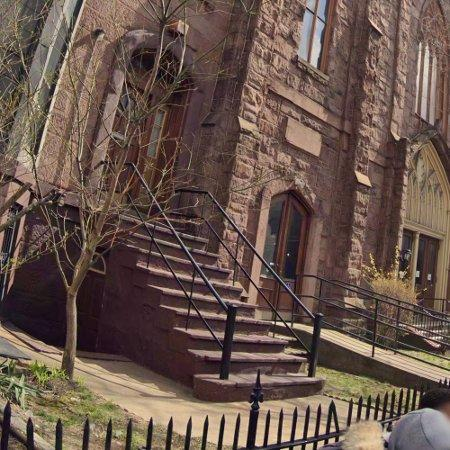stairs: (81, 222, 325, 402)
